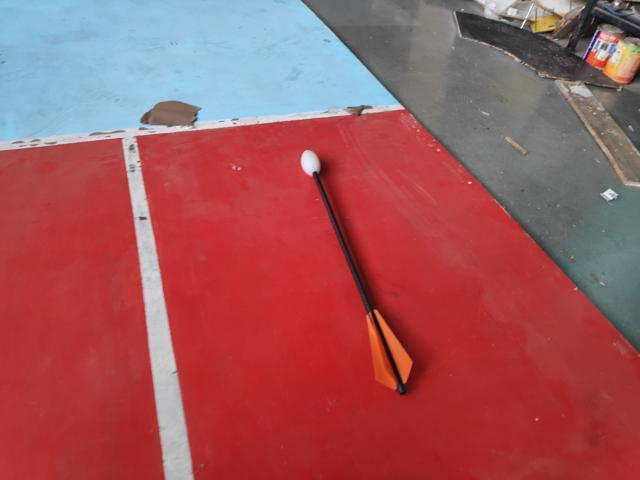Head: (297, 146, 324, 178)
Tail: (361, 309, 419, 397)
